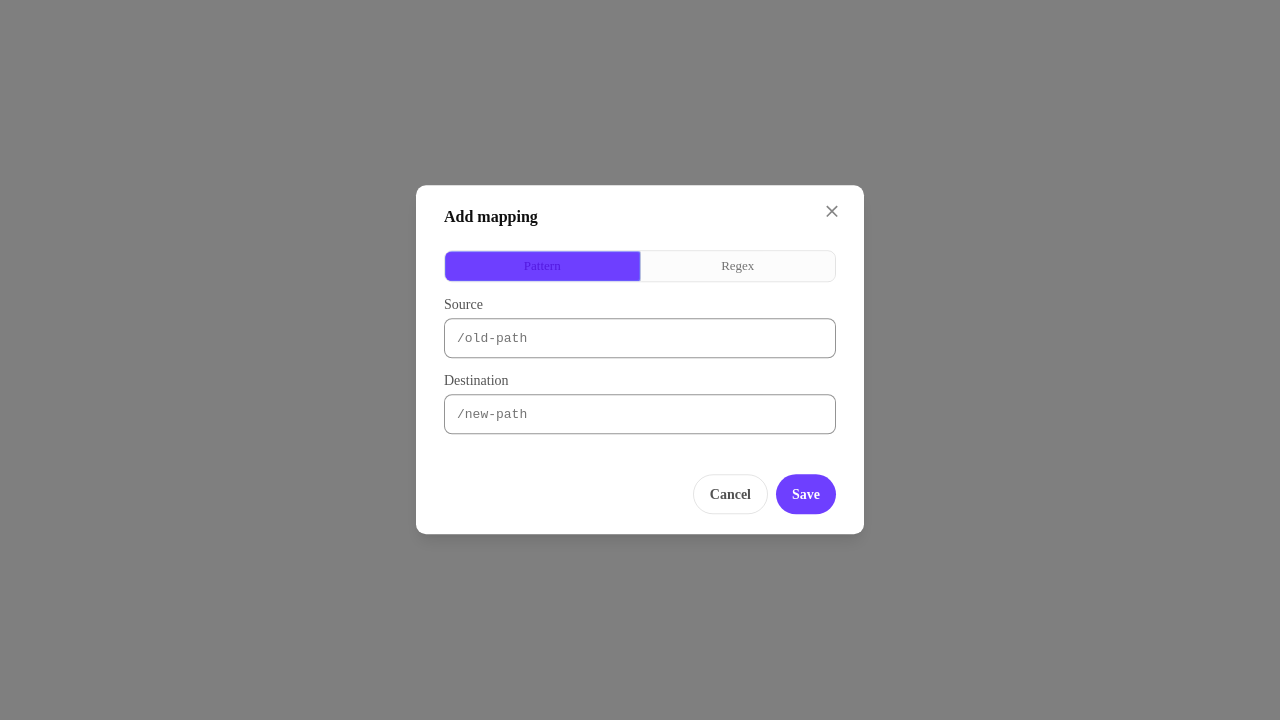
Scenario: T023a/T023 — Save-time validation › invalid regex blocks save; inline error contains exception message; modal stays open
Click the button "Regex" at (737,266), box [640,251,835,282]
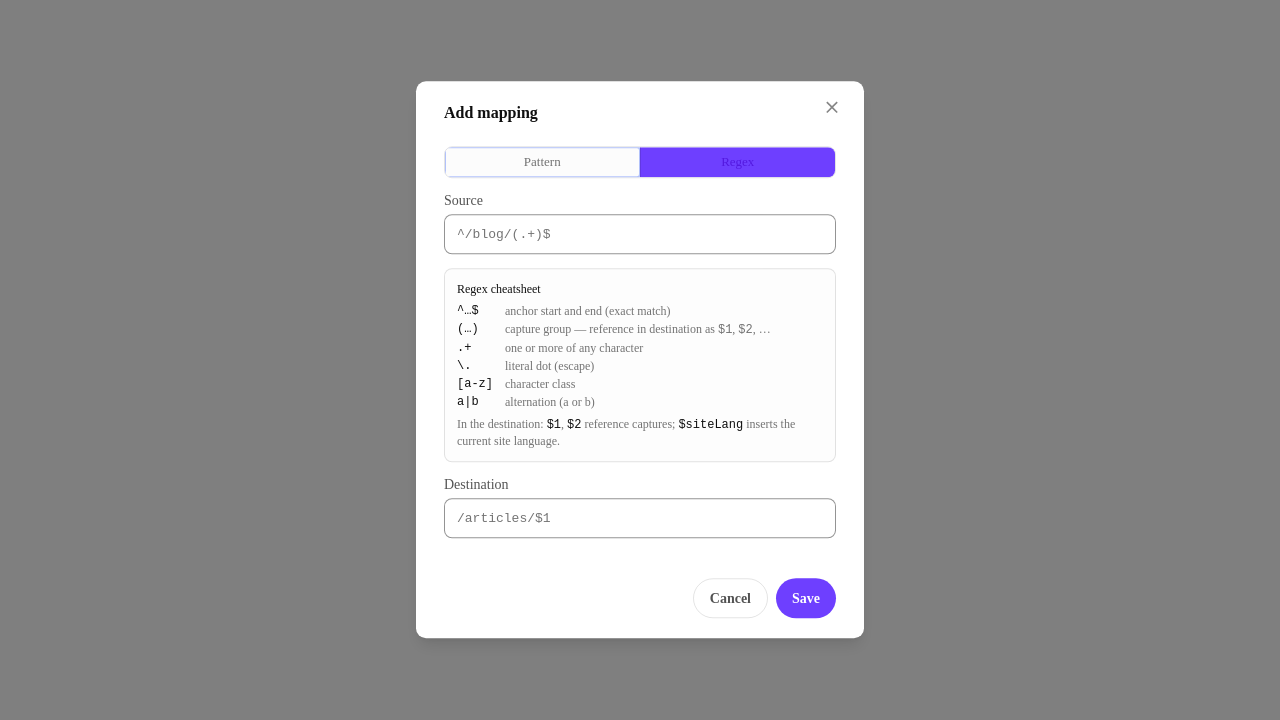
Type "(a+]$" into the field labelled "Source" at (640,235), box [444,215,836,255]
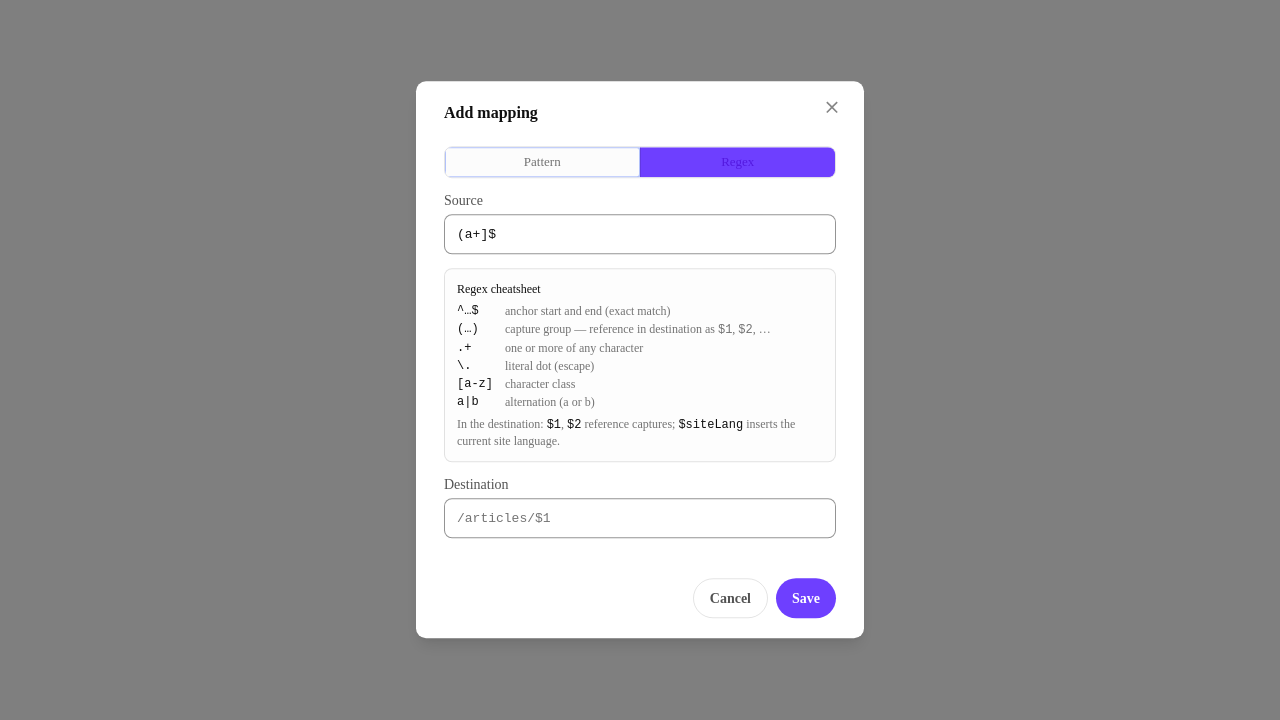
Type "/dest" into the field labelled "Destination" at (640,519), box [444,499,836,539]
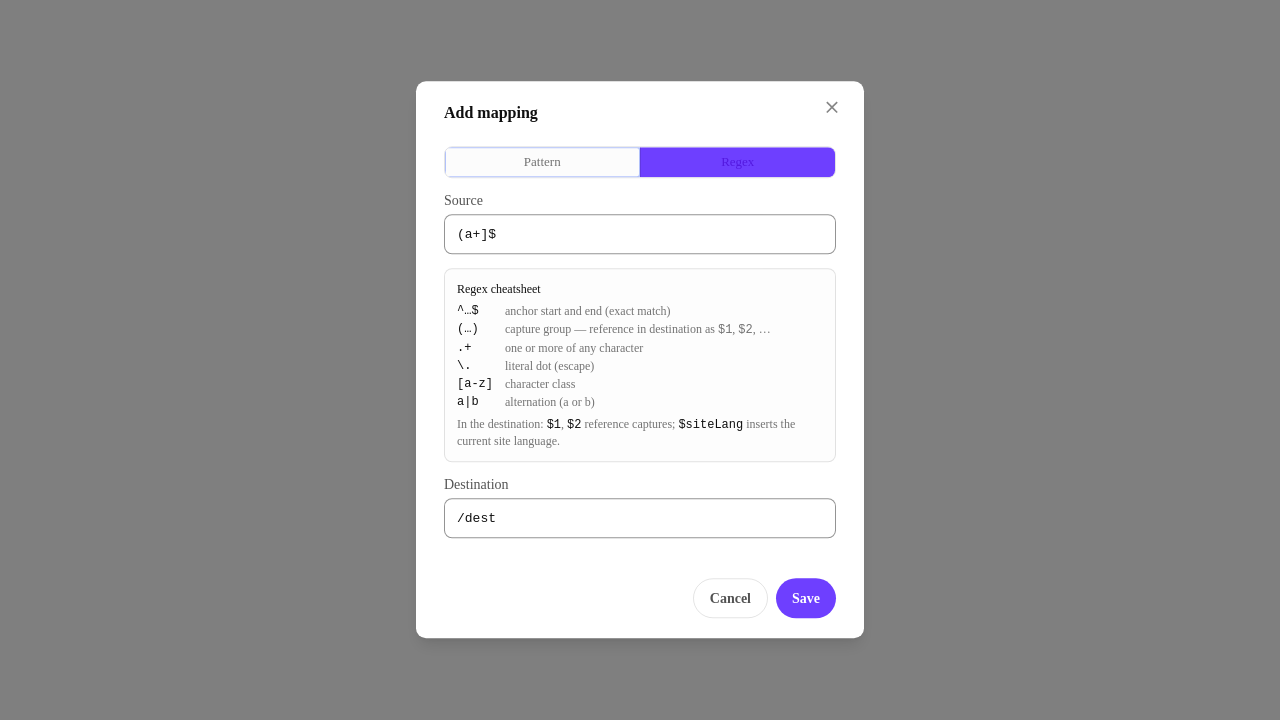
Click the button "Save" at (806,599), box [776,579,836,619]
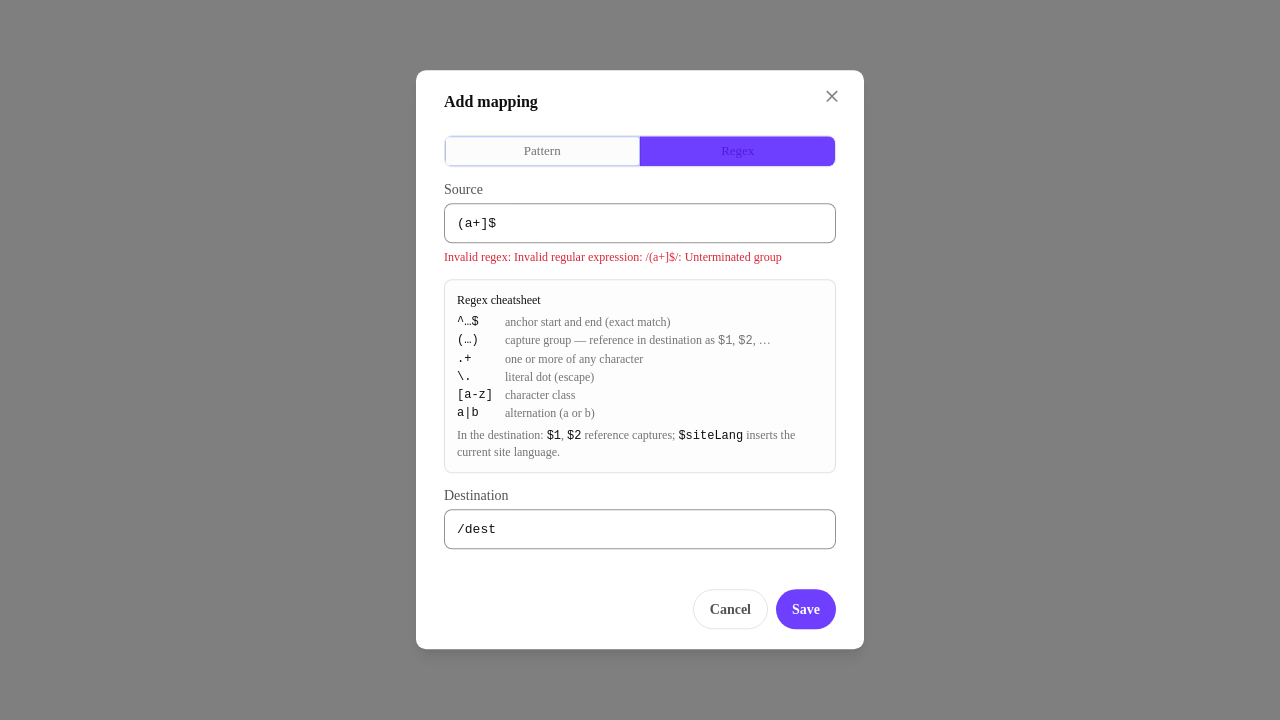
Expected: the message shows "Invalid regex", [444,251,782,265]
